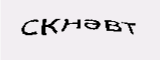Б: (73, 17, 87, 41)
Г: (86, 19, 102, 40)
Е: (46, 25, 63, 48)
К: (61, 22, 73, 43)
О: (100, 17, 118, 39)
